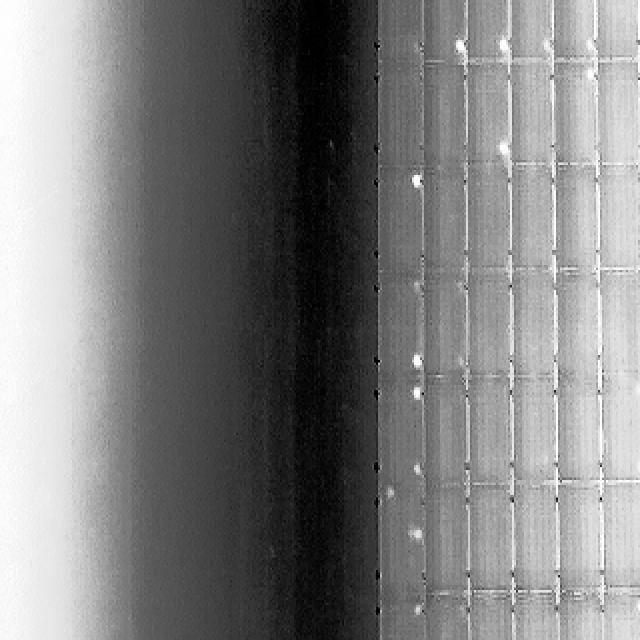Hotspots: (408, 525, 425, 547), (380, 485, 396, 503), (496, 34, 511, 52), (409, 175, 424, 192), (581, 67, 595, 85), (497, 139, 510, 157), (412, 462, 425, 479), (412, 384, 425, 400), (413, 604, 426, 619), (544, 35, 555, 52), (452, 36, 464, 51), (413, 353, 425, 368), (585, 34, 594, 50), (636, 595, 640, 610)
PV-modules: (380, 492, 428, 604), (378, 168, 425, 280), (556, 485, 603, 596), (378, 381, 425, 492), (421, 489, 468, 598), (465, 272, 512, 381), (420, 378, 466, 489), (554, 269, 600, 378), (510, 489, 557, 595), (510, 378, 556, 486), (467, 165, 513, 273), (420, 166, 465, 276), (467, 378, 512, 487), (507, 167, 554, 271), (506, 59, 552, 164), (379, 64, 425, 169), (510, 272, 554, 381), (378, 278, 425, 380), (552, 168, 598, 272), (555, 379, 601, 483), (418, 279, 465, 380), (551, 60, 596, 165), (470, 486, 514, 591), (467, 62, 512, 164), (596, 58, 640, 162), (421, 62, 465, 166), (598, 165, 640, 270), (598, 268, 640, 372), (600, 480, 640, 588), (600, 375, 640, 480), (379, 0, 425, 65), (421, 0, 467, 64), (465, 0, 510, 61), (508, 0, 554, 58), (551, 0, 596, 59), (596, 0, 640, 58), (510, 592, 558, 640), (420, 592, 468, 640), (556, 592, 602, 640), (468, 590, 512, 640), (600, 590, 640, 640), (374, 600, 420, 640), (636, 0, 640, 58), (638, 58, 640, 162), (638, 168, 640, 270)
